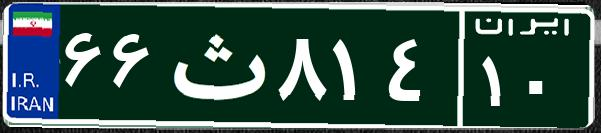0: (525, 38, 570, 115)
1: (330, 28, 385, 110), (475, 38, 525, 113)
4: (385, 28, 445, 110)
6: (57, 26, 110, 107), (110, 28, 158, 105)
8: (273, 28, 330, 110)
ث: (158, 15, 273, 115)
